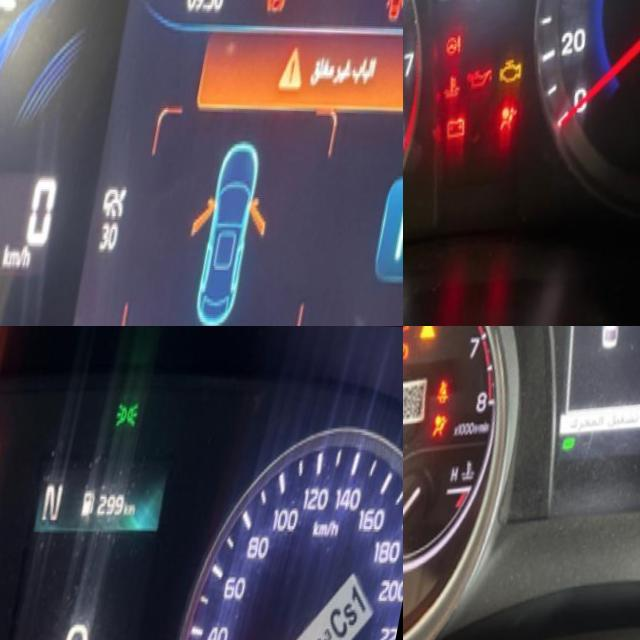Central Warning lamp: (424, 326, 450, 343)
High Engine Coolant Temperature: (453, 70, 476, 96)
